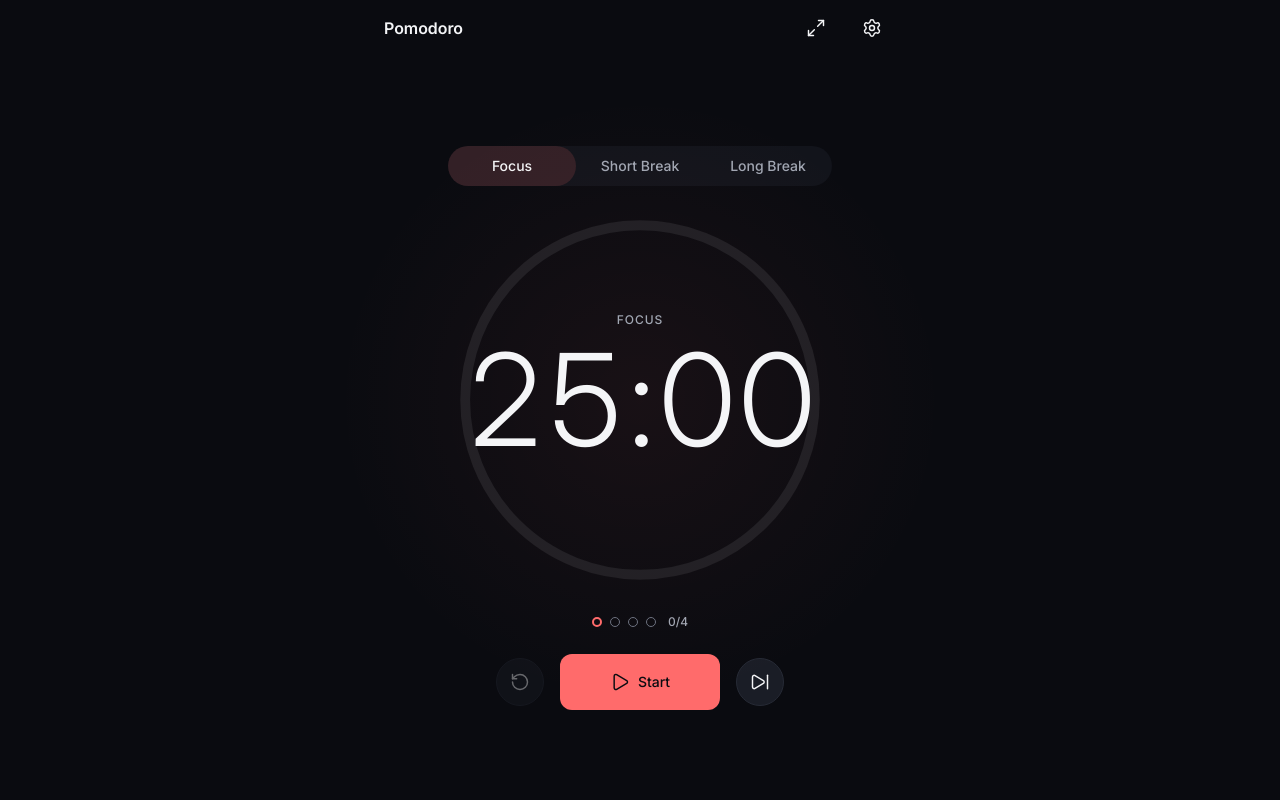
Test: Settings notification status (POMO-AC15, POMO-AC25) › default, not yet asked: N1 and the Allow button
This screenshot has width=1280, height=800.
Click the button named "Open settings". click: (872, 28)
box: [848,4,896,52]
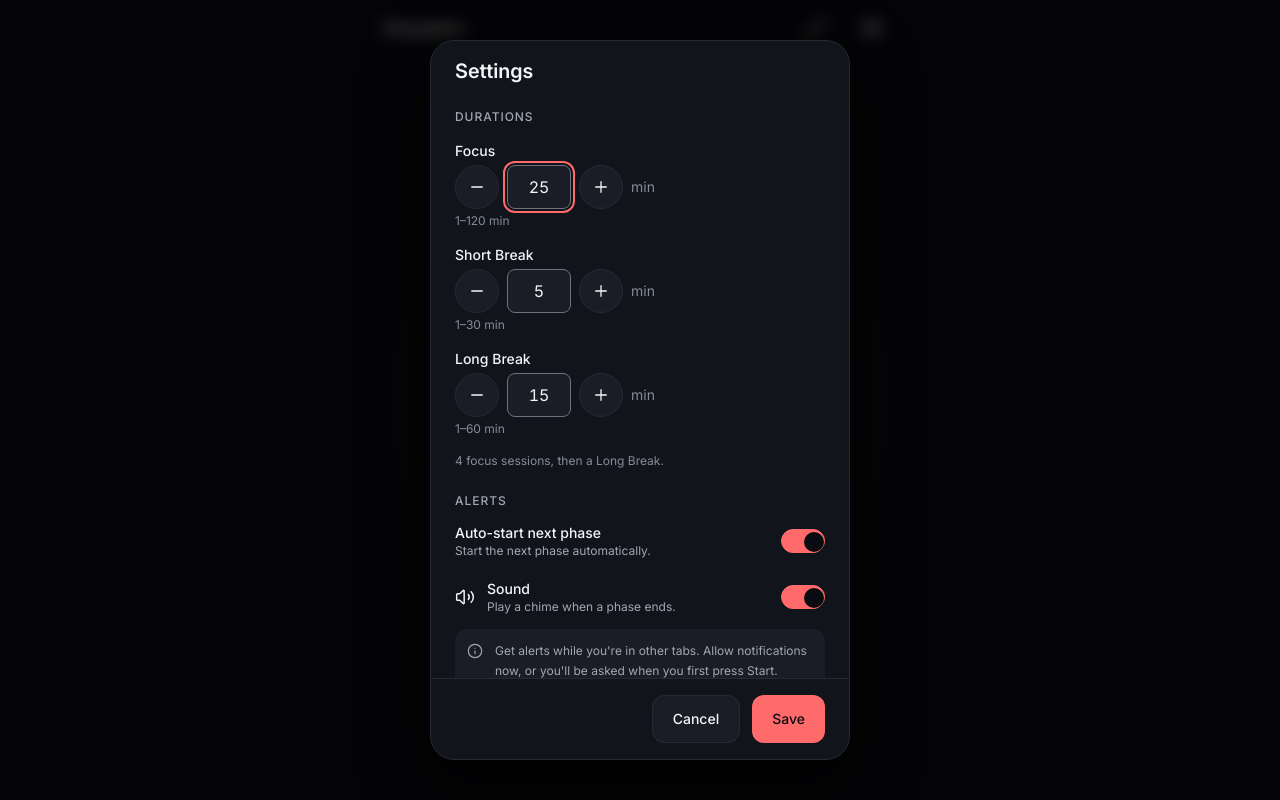
Result: the text "Get alerts while you're in other tabs. Allow notifications now, or you'll be asked when you first press Start." is shown at [495,643,807,678]
